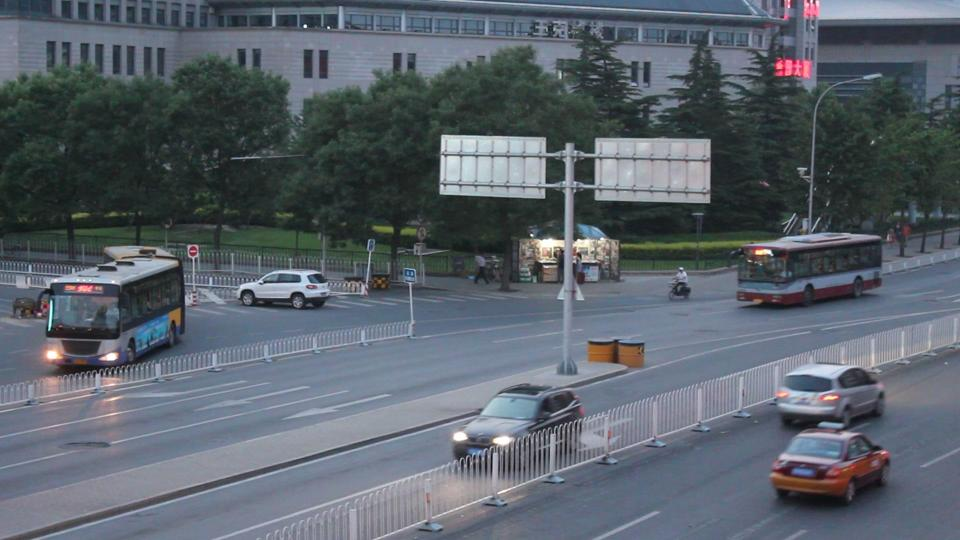Bus: (45, 244, 187, 365), (733, 228, 878, 305)
Car: (444, 384, 583, 467), (766, 420, 890, 503), (769, 361, 885, 423), (237, 266, 331, 309)
